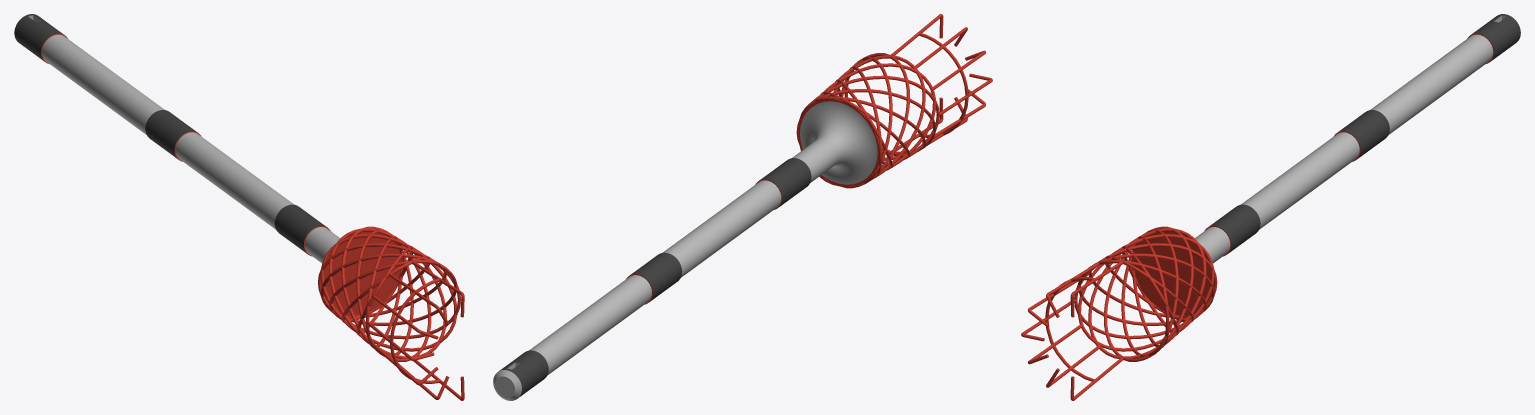
The model's file is Fruit_picker_v1.fbx.
The picture shows the model from 3 angles, left to right: view 1: azimuth 30°, elevation 25°; view 2: azimuth 150°, elevation 25°; view 3: azimuth 330°, elevation 25°; orthographic projection.
Parts seen in each view (by area): view 1: Body3; view 2: Body3; view 3: Body3.
Boxes of the visible parts, box(x1,y1,x2,y2) form: Body3: box(14, 14, 464, 400); Body3: box(493, 14, 992, 400); Body3: box(1021, 14, 1520, 400).
Bounding box in the file's own units: 137 × 144 × 1049.
